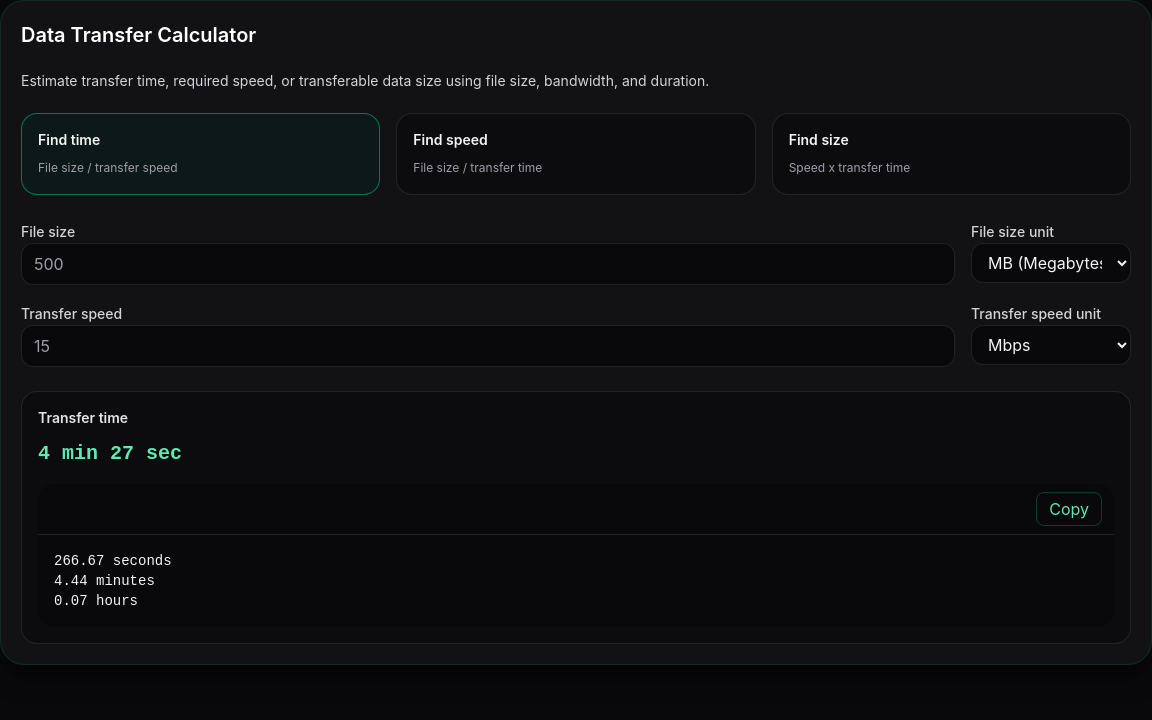
Test: Data Transfer stable arithmetic across modes › finds time for 1 GB at 1 MB/s
Type "1" into the field labelled "File size" at (488, 264), box [21,243,955,285]
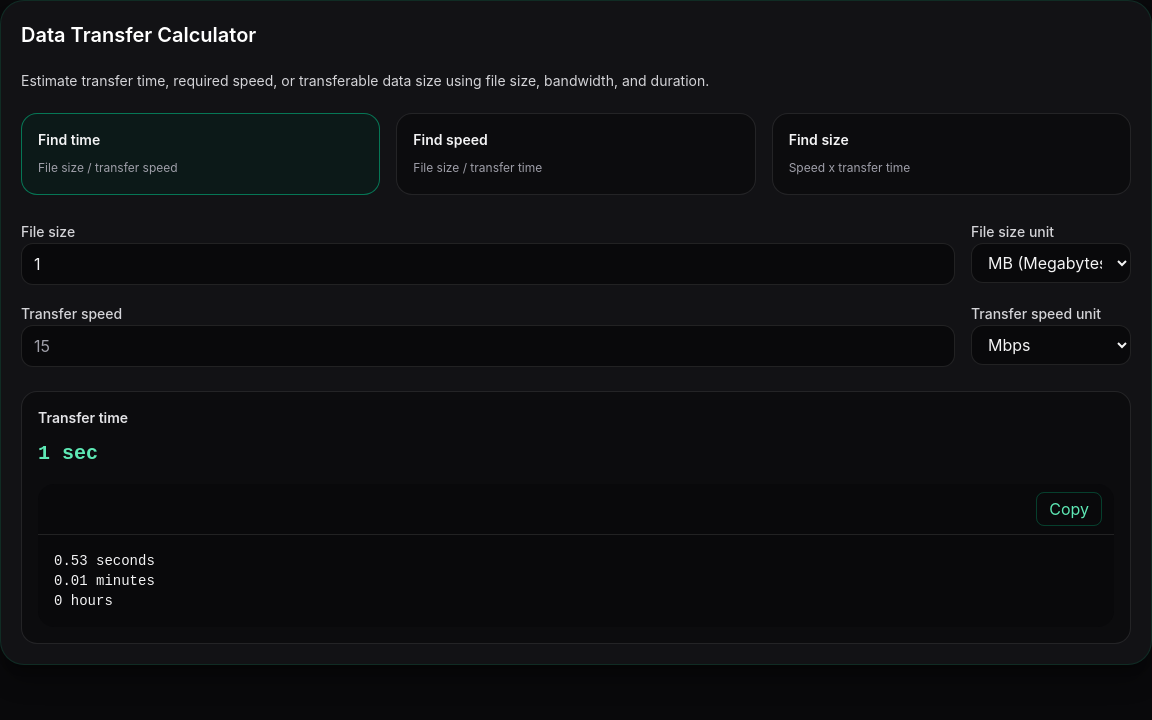
Type "1" into the field labelled "Transfer speed" at (488, 346), box [21,325,955,367]
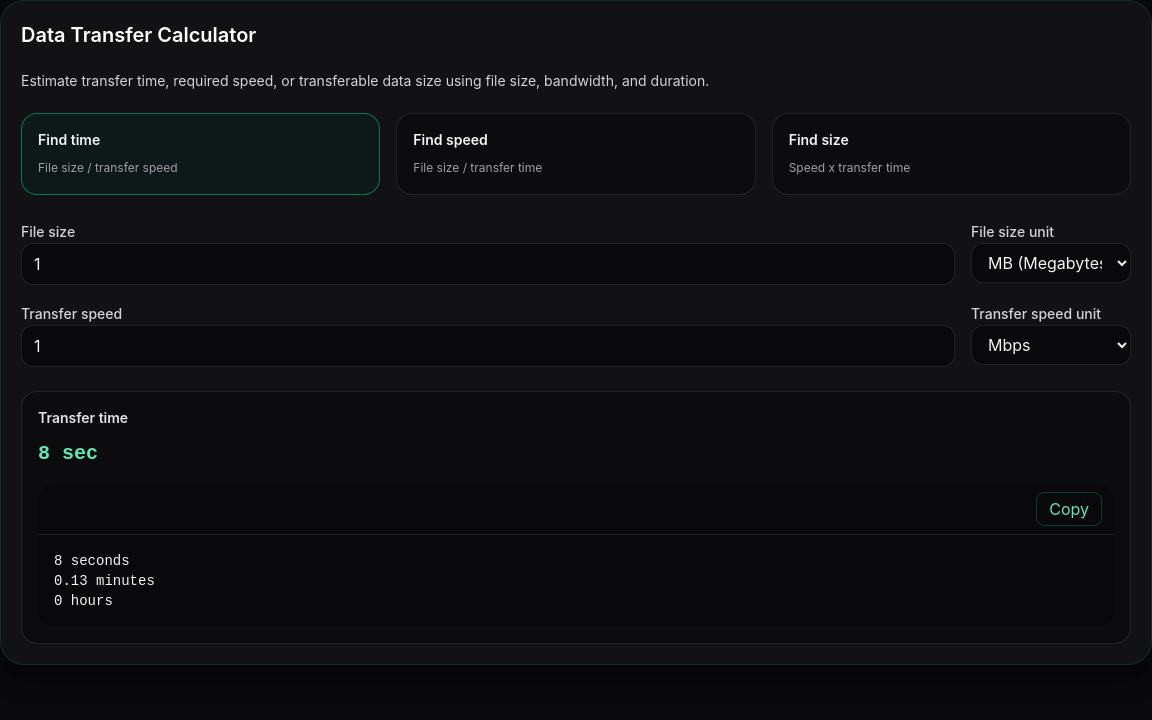
Select "GB (Gigabytes)" in the dropdown labelled "File size unit" at (1051, 263), box [971,243,1131,283]
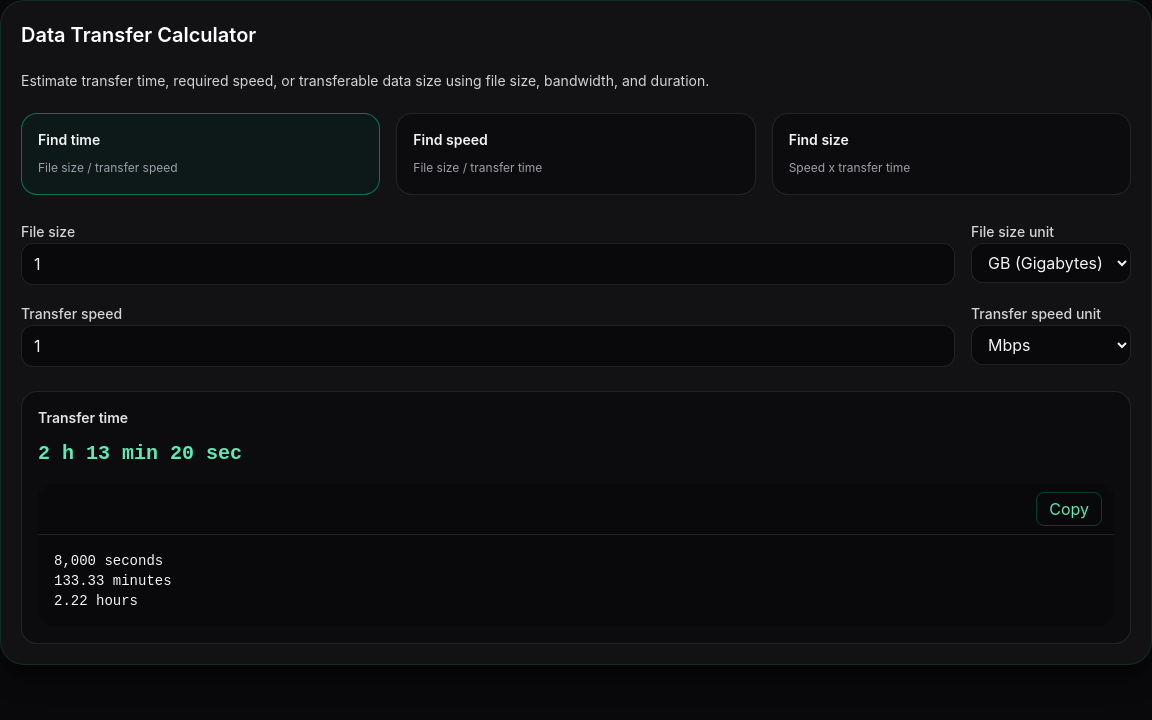
Select "MB/s" in the dropdown labelled "Transfer speed unit" at (1051, 345), box [971,325,1131,365]
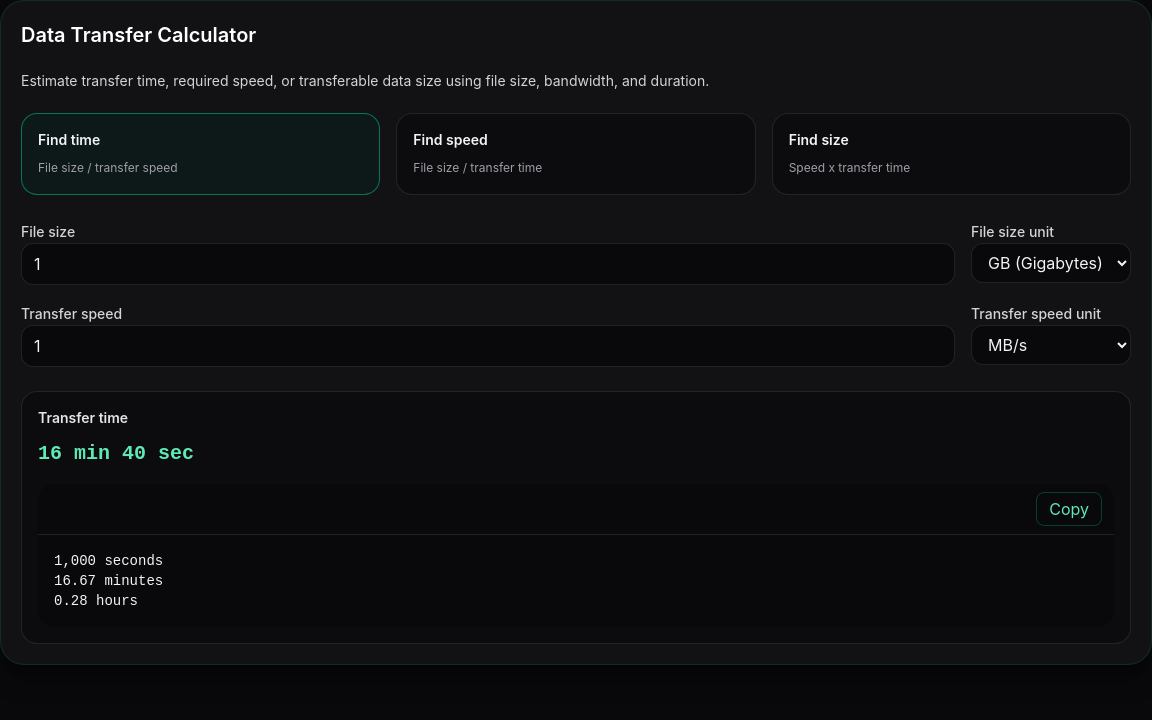
Now the text "16 min 40 sec" is shown, box [38,442,194,465]
